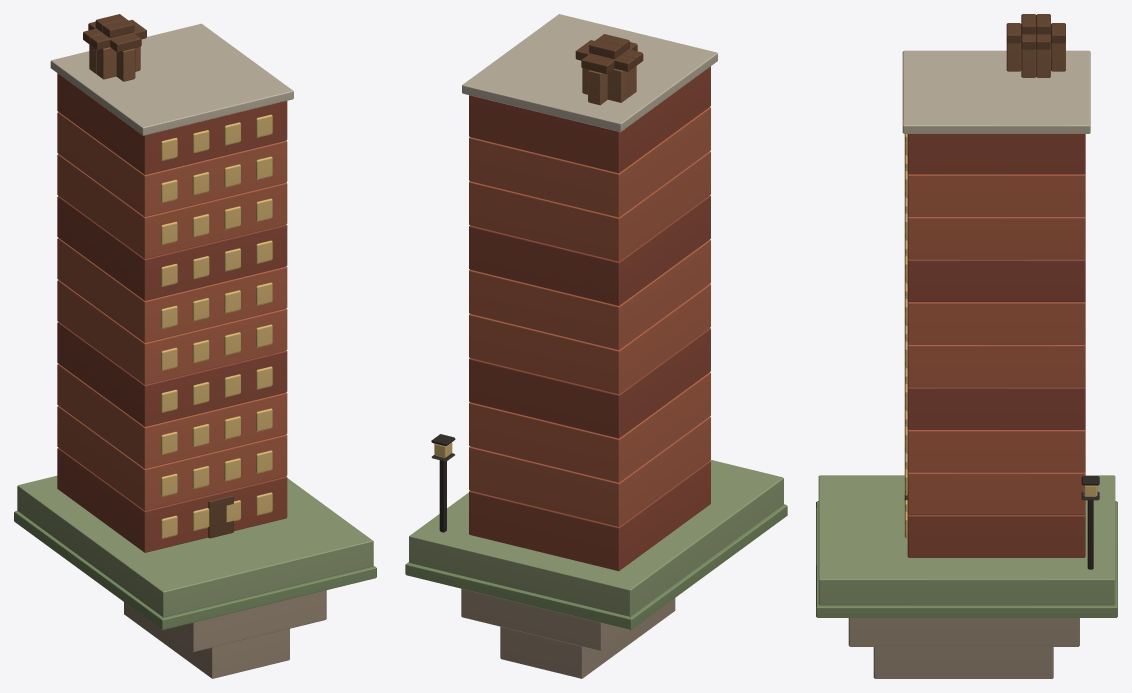
File: region_15.glb
3 renders of one model, left to right at view 1: azimuth 30°, elevation 25°; view 2: azimuth 150°, elevation 25°; view 3: azimuth 270°, elevation 25°, orthographic. The views are drawn at different scales.
Visible parts, largest first — view 1: region_15_static, region_15_glow; view 2: region_15_static; view 3: region_15_static, region_15_glow.
Part boxes in pixels (x1,y1,x2,y2): region_15_static: [14, 14, 376, 678]; region_15_glow: [161, 114, 272, 538]; region_15_static: [405, 14, 787, 678]; region_15_static: [816, 14, 1117, 678]; region_15_glow: [904, 134, 1097, 538].
Size of the model in its own units: 5.1 by 13.66 by 6.1.
